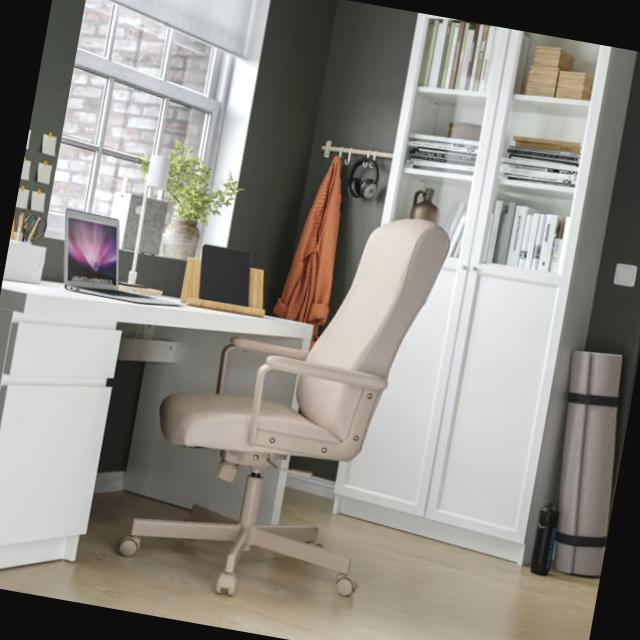Chair: (104, 209, 461, 614)
